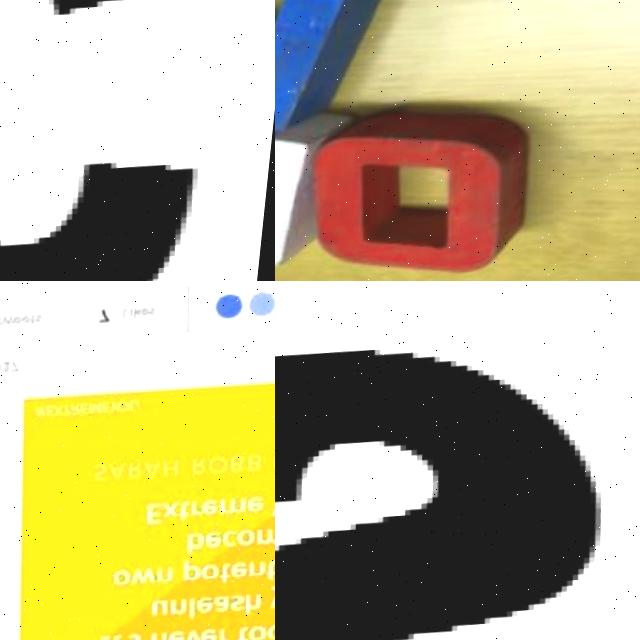0: (0, 359, 4, 372)
1: (2, 359, 12, 372)
7: (98, 307, 113, 322), (11, 359, 23, 372)
A: (112, 460, 129, 478), (149, 458, 166, 475), (221, 592, 238, 608)
B: (192, 530, 211, 551), (233, 451, 250, 470), (251, 451, 266, 468)
C: (0, 156, 206, 281), (227, 526, 243, 543)
E: (236, 558, 255, 578), (250, 492, 271, 510), (151, 501, 169, 522), (202, 592, 221, 611), (206, 496, 224, 515), (210, 527, 228, 545), (207, 624, 225, 640), (176, 627, 194, 640), (81, 400, 93, 413), (104, 399, 116, 412), (48, 402, 58, 415), (14, 314, 24, 323), (22, 313, 32, 322), (141, 305, 151, 314)
H: (275, 103, 358, 277), (252, 592, 270, 611), (167, 456, 185, 474)
I: (107, 634, 120, 640), (130, 306, 135, 318)
K: (133, 305, 141, 317)
L: (121, 305, 131, 318), (196, 597, 203, 615)
M: (224, 494, 252, 514), (260, 525, 275, 542), (90, 399, 106, 412)
N: (176, 595, 196, 614), (162, 564, 181, 583), (253, 557, 273, 574), (157, 629, 175, 640)
O: (302, 85, 577, 281), (242, 525, 263, 546), (118, 565, 140, 585), (212, 452, 231, 471), (206, 560, 226, 578), (256, 621, 275, 639), (120, 397, 134, 410)
P: (190, 557, 208, 580)
R: (132, 459, 147, 477), (196, 455, 211, 472), (225, 625, 239, 640), (195, 499, 207, 515), (73, 401, 83, 414)
S: (275, 312, 640, 640), (237, 590, 254, 610), (98, 462, 112, 479), (134, 631, 151, 640), (35, 312, 43, 321), (150, 305, 157, 314)
T: (181, 498, 197, 520), (225, 560, 239, 579), (244, 623, 258, 640), (64, 401, 76, 414), (118, 631, 132, 640), (270, 557, 275, 577), (30, 314, 38, 322), (0, 315, 4, 325)
U: (159, 597, 176, 613), (131, 397, 145, 410)
V: (191, 626, 209, 640)
W: (137, 566, 165, 584), (2, 314, 16, 323)
X: (167, 499, 186, 518), (57, 402, 67, 415)
Y: (111, 398, 123, 412)
